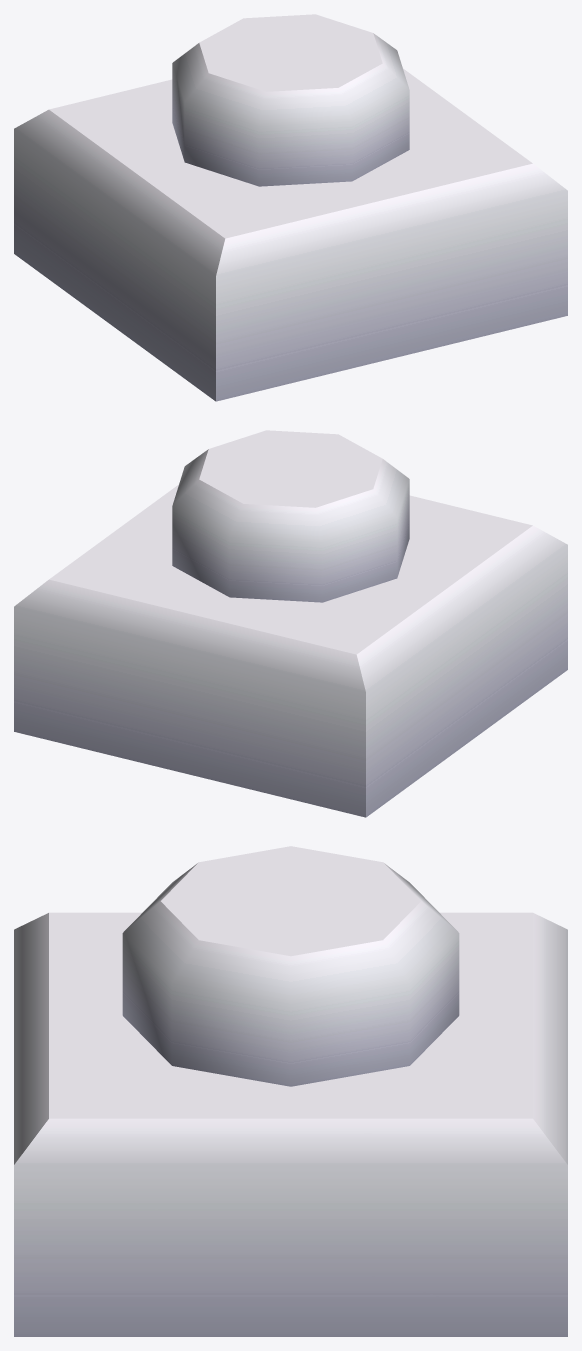
Rendered from round-hq-plate-1x1.glb.
3 renders of one model, top to bottom at view 1: azimuth 30°, elevation 25°; view 2: azimuth 150°, elevation 25°; view 3: azimuth 270°, elevation 25°, orthographic. The views are drawn at different scales.
Parts seen in each view (by area): view 1: round-hq-plate-1x1; view 2: round-hq-plate-1x1; view 3: round-hq-plate-1x1.
Part boxes in pixels (x1,y1,x2,y2): round-hq-plate-1x1: (14, 14, 567, 401); round-hq-plate-1x1: (14, 430, 567, 817); round-hq-plate-1x1: (14, 846, 567, 1336).
Bounding box in the file's own units: 0.0795 × 0.05 × 0.079.
Materials: 1 (1 with a texture image).
